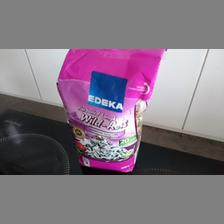Reis: (56, 48, 168, 172)
